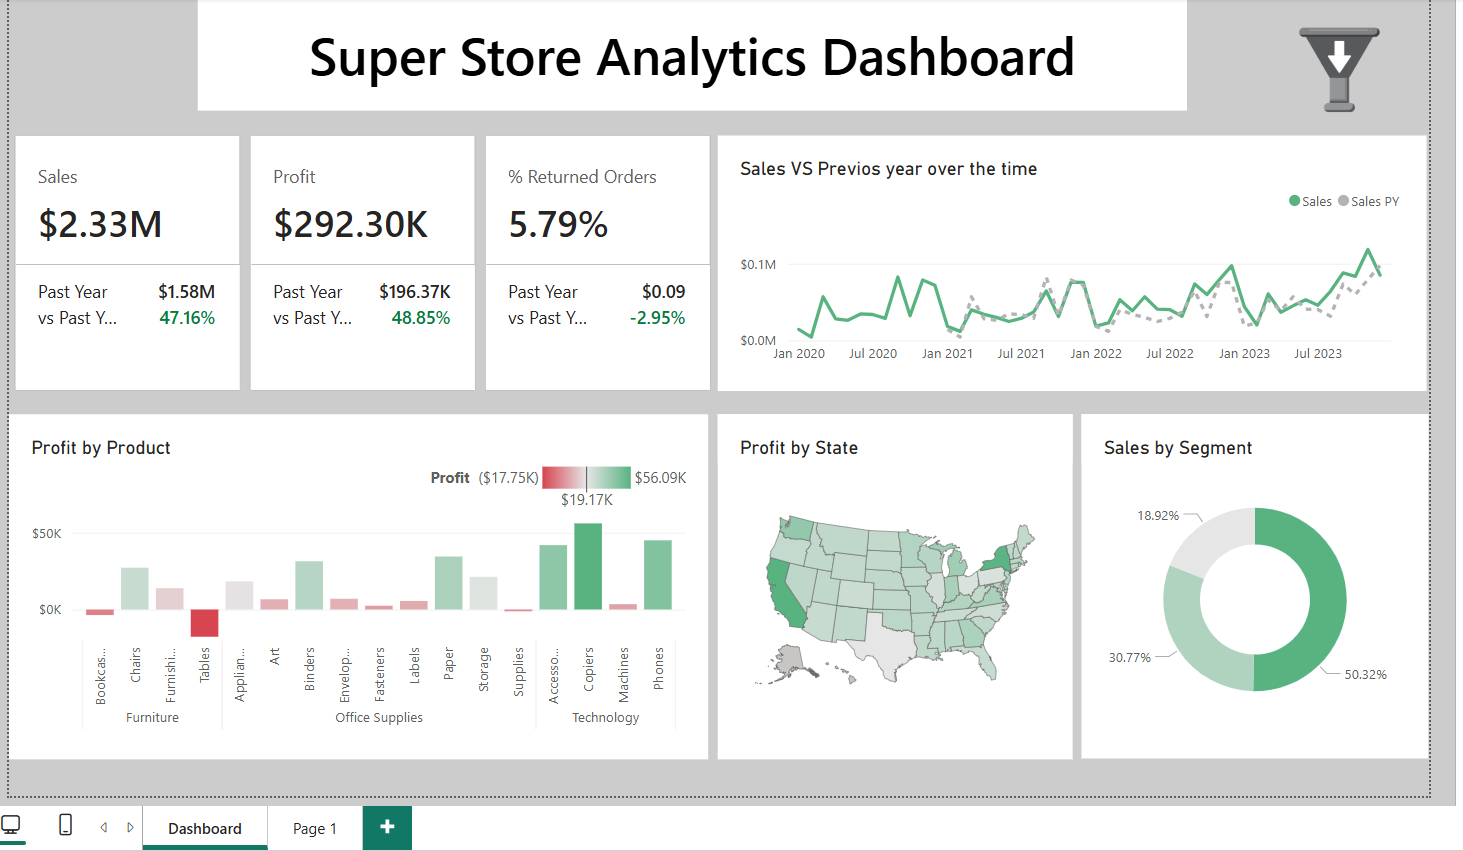

The dashboard page shown, as its layout file describes it:
{"tool":"powerbi","page":{"name":"Page 1","canvas":[1280,720],"ordinal":0},"visuals":[{"type":"cardVisual","fields":{"Data":["Key Measures.Sales","Key Measures.Profit","Key Measures.% Returned Orders"]},"box":[0,118.2,639.4,241.3],"z":0},{"type":"shape","box":[192.8,0,891.9,102],"z":1000},{"type":"lineChart","title":"Sales VS Previos year over the time","fields":{"Category":["Date Table.Start of month"],"Y":["Key Measures.Sales","Key Measures.Sales PY"]},"box":[639.4,118.2,639.4,241.3],"z":2000},{"type":"columnChart","title":"Profit by Product","fields":{"Y":["Key Measures.Profit"],"Category":["Orders.Category","Orders.Sub-Category"]},"box":[0,375.7,639.4,311],"z":3000},{"type":"filledMap","title":"Profit by State","fields":{"Category":["Orders.State/Province"]},"box":[648.3,375.9,310.3,310.3],"z":4000},{"type":"donutChart","title":"Sales by Segment","fields":{"Y":["Key Measures.Sales"],"Category":["Orders.Segment"]},"box":[967.4,375.9,312.8,310.3],"z":4001}]}

Visuals, with their boxes on the page's 1280x720 design canvas (x1, y1, x2, y2). These are canvas units, not pixel positions in the 1463x851 screenshot, which may show the page scaled, cropped or inside an application window:
cardVisual - Key Measures.Sales x Key Measures.Profit: [left=0, top=118, right=639, bottom=360]
shape: [left=193, top=0, right=1085, bottom=102]
"Sales VS Previos year over the time" lineChart: [left=639, top=118, right=1279, bottom=360]
"Profit by Product" columnChart: [left=0, top=376, right=639, bottom=687]
"Profit by State" filledMap: [left=648, top=376, right=959, bottom=686]
"Sales by Segment" donutChart: [left=967, top=376, right=1280, bottom=686]
